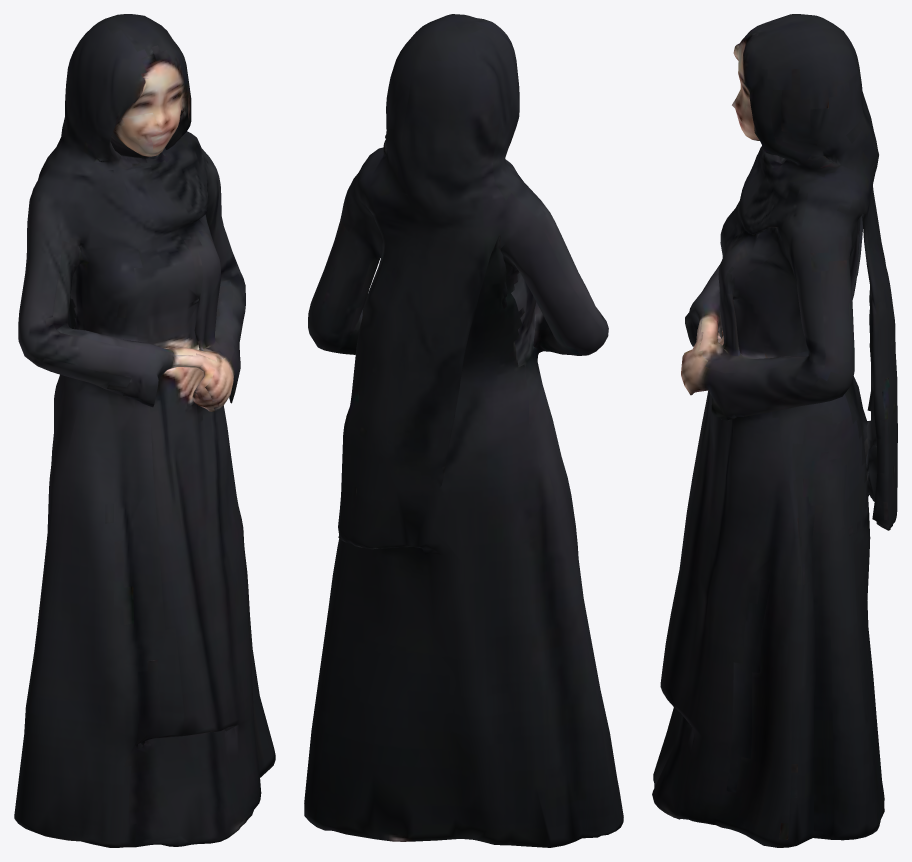
Rendered from bd_w_abaya.glb.
3 views of the same model, side by side, from view 1: azimuth 30°, elevation 25°; view 2: azimuth 150°, elevation 25°; view 3: azimuth 270°, elevation 25° (orthographic). The views are drawn at different scales.
Parts seen in each view (by area): view 1: Object_3; view 2: Object_3; view 3: Object_3.
Part boxes in pixels (x1,y1,x2,y2): Object_3: (14,14,275,847); Object_3: (304,14,623,847); Object_3: (652,14,897,847).
Bounding box in the file's own units: 0.7206 × 2 × 0.571.
1 material, 1 textured.
